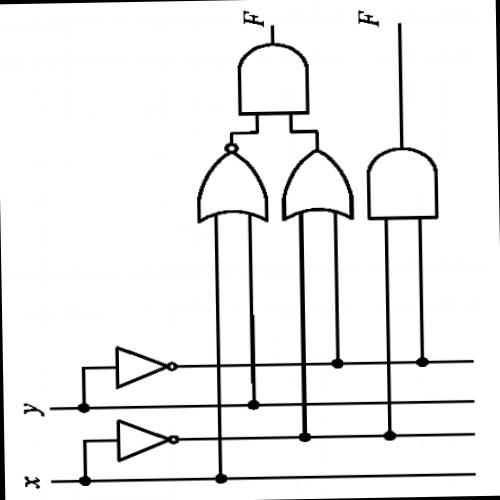and: (356, 136, 452, 236), (225, 34, 320, 122)
nor: (182, 138, 274, 238)
not: (105, 332, 187, 397), (107, 414, 184, 472)
or: (268, 141, 362, 232)
